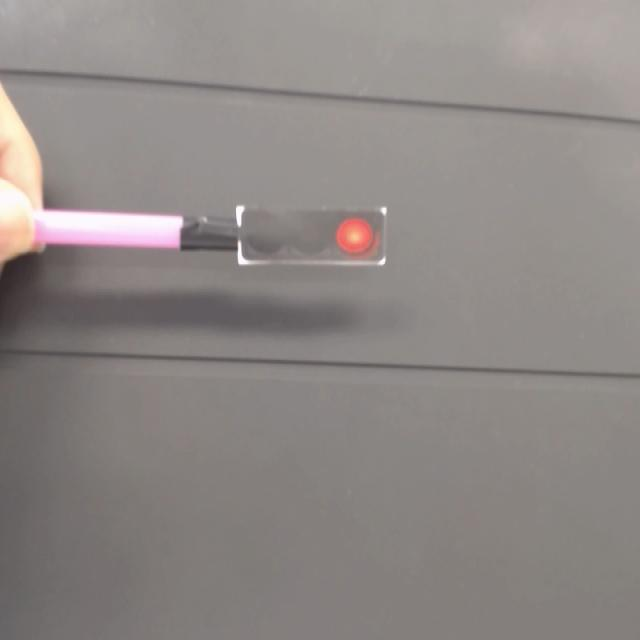traffic light: (231, 207, 389, 268)
